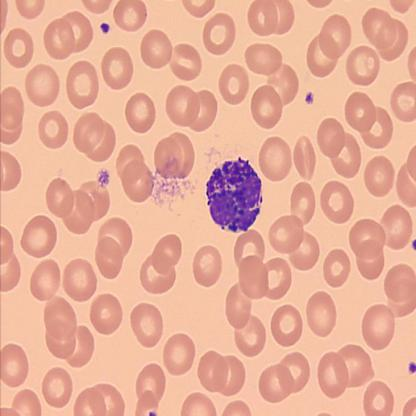Basophil: (203, 156, 265, 237)
